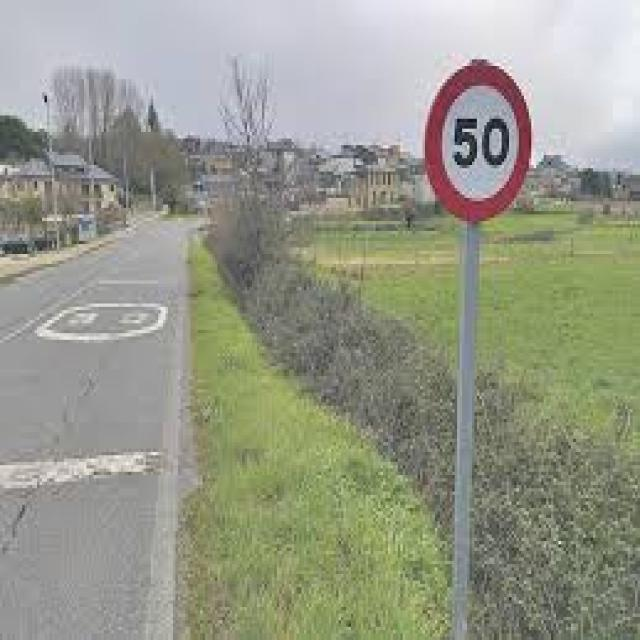Speed limit 50: (421, 54, 535, 225)
